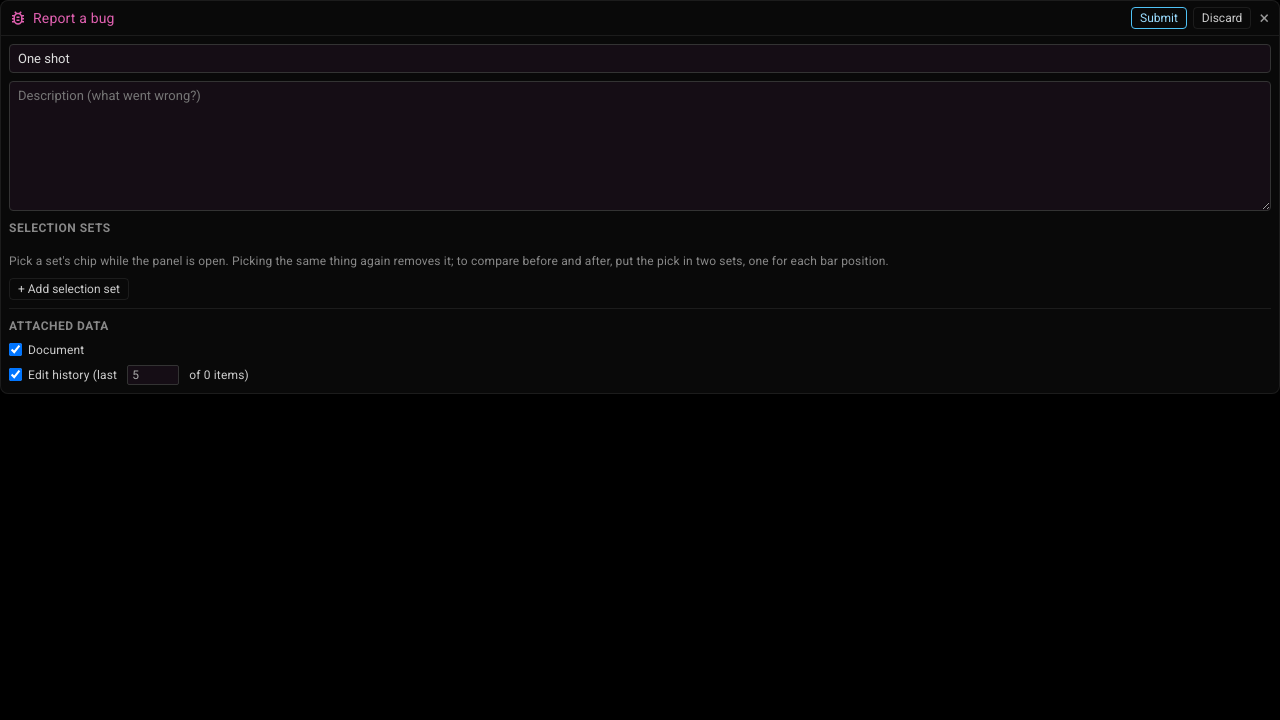
Scenario: BugReportPanel › clears the draft after a successful submit so it cannot be re-sent
Click the button "Submit": (1159, 18) [1131, 7, 1187, 29]
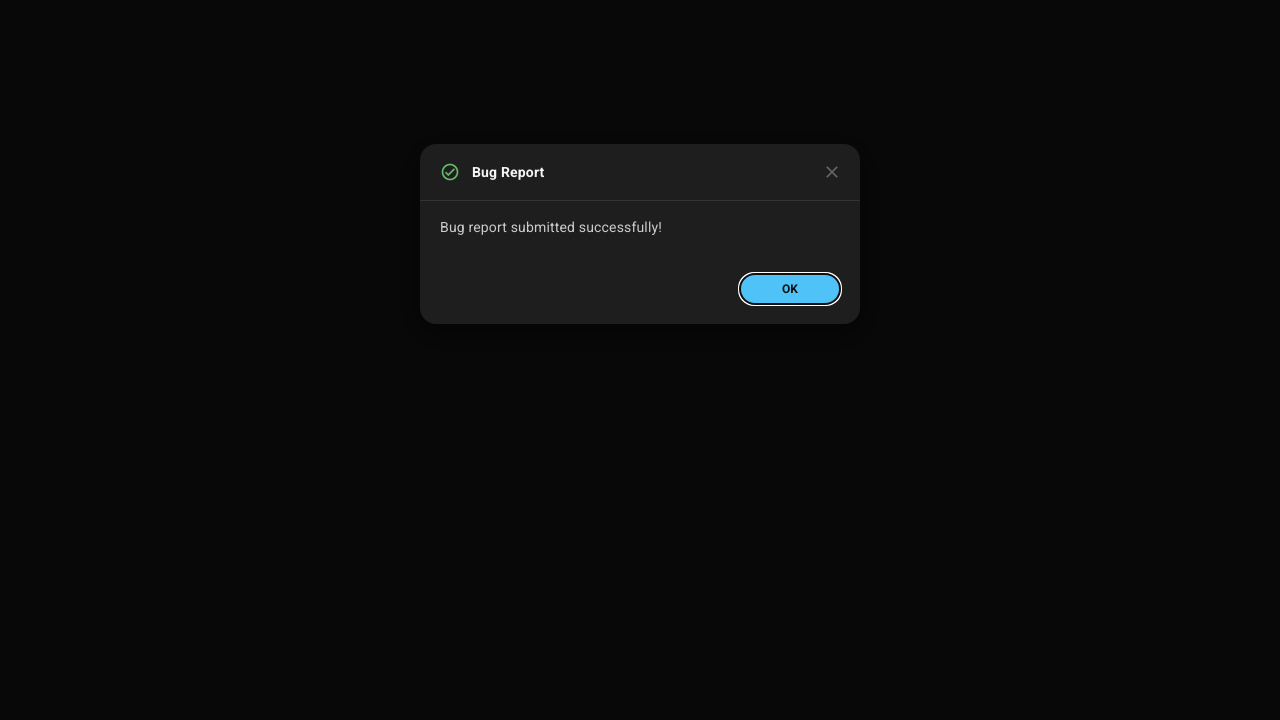
Expected: the text "Bug report submitted successfully!" is shown, [440, 219, 662, 235]
